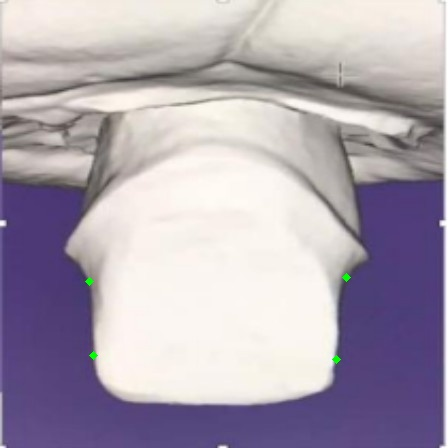coin_1: (89, 281, 109, 301)
coin_2: (93, 355, 113, 375)
coin_3: (346, 277, 366, 297)
coin_4: (336, 359, 356, 379)
